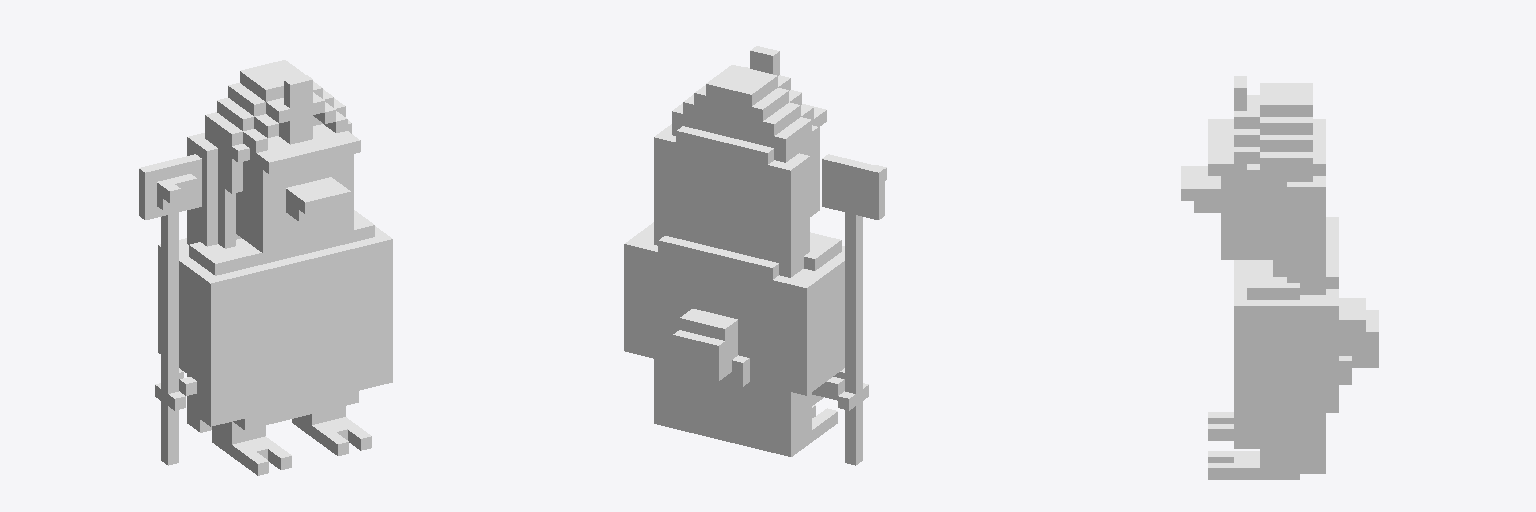
The model's file is wizardChic.obj.
3 views of the same model, side by side, from view 1: azimuth 30°, elevation 25°; view 2: azimuth 150°, elevation 25°; view 3: azimuth 270°, elevation 25° (orthographic).
Parts seen in each view (by area): view 1: object 1; view 2: object 1; view 3: object 1.
Boxes of the visible parts, x1=… form: object 1: x1=139, y1=60, x2=392, y2=475; object 1: x1=624, y1=46, x2=886, y2=465; object 1: x1=1181, y1=76, x2=1378, y2=479.
Size of the model in its own units: 2 by 3.1 by 1.5.